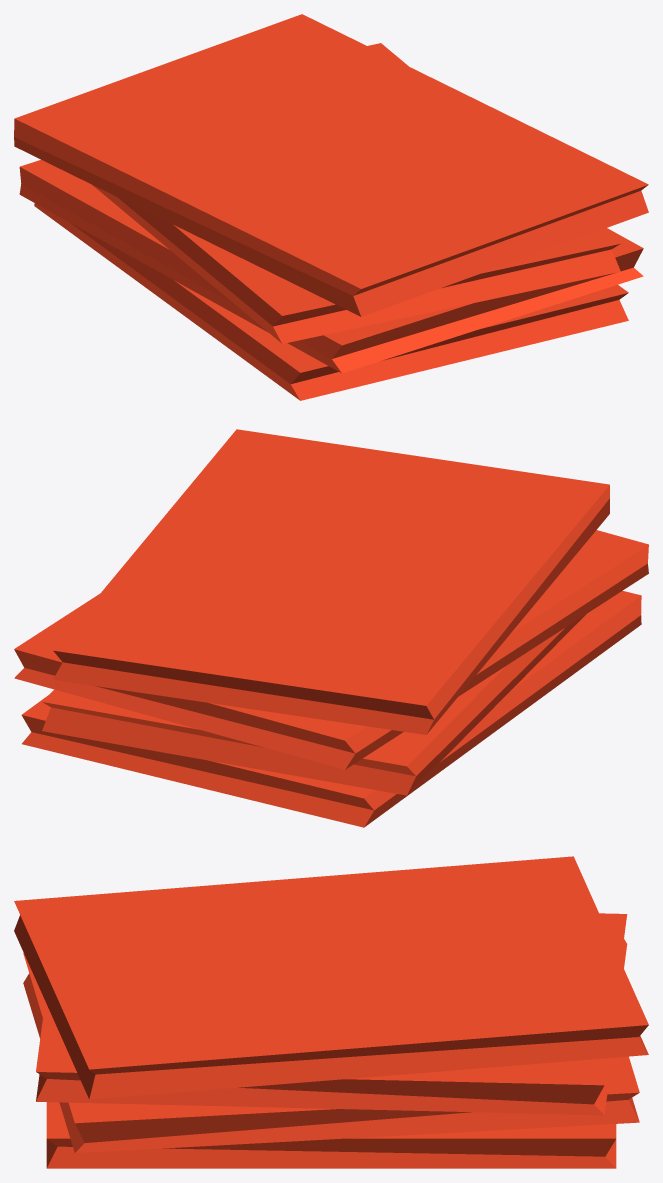
Rendered from SM_Newspaper_A_Pile_City.fbx.
3 views of the same model, one above another, from view 1: azimuth 30°, elevation 25°; view 2: azimuth 150°, elevation 25°; view 3: azimuth 270°, elevation 25° (orthographic). The views are drawn at different scales.
Parts seen in each view (by area): view 1: SM_Newspaper_A_Pile_City; view 2: SM_Newspaper_A_Pile_City; view 3: SM_Newspaper_A_Pile_City.
Boxes of the visible parts, x1=… form: SM_Newspaper_A_Pile_City: x1=14, y1=14, x2=648, y2=400; SM_Newspaper_A_Pile_City: x1=14, y1=429, x2=648, y2=827; SM_Newspaper_A_Pile_City: x1=14, y1=856, x2=648, y2=1168.
Bounding box in the file's own units: 0.3459 × 0.0897 × 0.4311.
